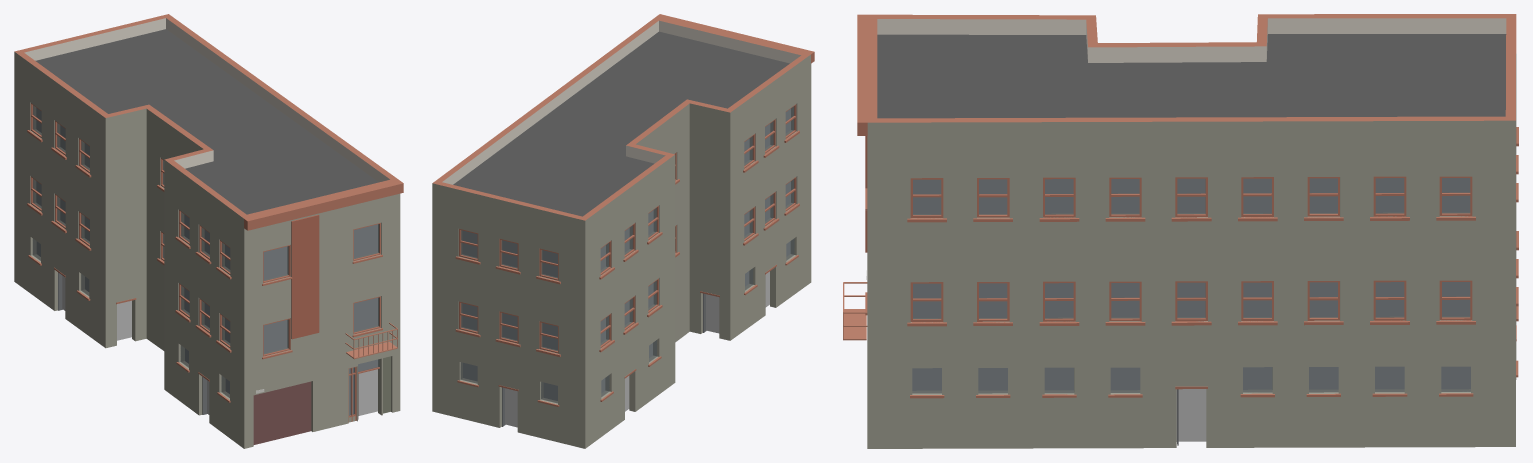
The model's file is exterior.glb.
3 renders of one model, left to right at view 1: azimuth 30°, elevation 25°; view 2: azimuth 150°, elevation 25°; view 3: azimuth 270°, elevation 25°, orthographic. The views are drawn at different scales.
Visible parts, largest first — view 1: shell, roof, glazing, shadow-proxy, storefront, relief-7, frames, fascia, trim, fire-escape; view 2: shell, roof, glazing, shadow-proxy, frames, trim, fascia, storefront; view 3: shell, roof, glazing, shadow-proxy, frames, trim, fascia, fire-escape.
Boxes of the visible parts, x1=… form: shell: x1=14, y1=14, x2=400, y2=448; roof: x1=35, y1=29, x2=378, y2=214; glazing: x1=32, y1=105, x2=379, y2=415; shadow-proxy: x1=36, y1=108, x2=377, y2=415; storefront: x1=54, y1=267, x2=390, y2=444; relief-7: x1=256, y1=214, x2=319, y2=393; frames: x1=30, y1=103, x2=380, y2=356; fascia: x1=244, y1=180, x2=403, y2=230; trim: x1=27, y1=130, x2=382, y2=402; fire-escape: x1=345, y1=322, x2=397, y2=359; shell: x1=432, y1=16, x2=811, y2=448; roof: x1=453, y1=31, x2=789, y2=216; glazing: x1=460, y1=106, x2=794, y2=403; shadow-proxy: x1=462, y1=109, x2=790, y2=427; frames: x1=459, y1=104, x2=796, y2=353; trim: x1=455, y1=130, x2=799, y2=406; fascia: x1=656, y1=14, x2=814, y2=63; storefront: x1=498, y1=264, x2=776, y2=426; shell: x1=867, y1=14, x2=1516, y2=448; roof: x1=877, y1=34, x2=1506, y2=118; glazing: x1=912, y1=178, x2=1470, y2=393; shadow-proxy: x1=912, y1=178, x2=1470, y2=441; frames: x1=910, y1=176, x2=1472, y2=321; trim: x1=865, y1=127, x2=1518, y2=398; fascia: x1=857, y1=14, x2=867, y2=135; fire-escape: x1=843, y1=282, x2=867, y2=340.
Bounding box in the file's own units: 8.84 × 12.14 × 22.79.
